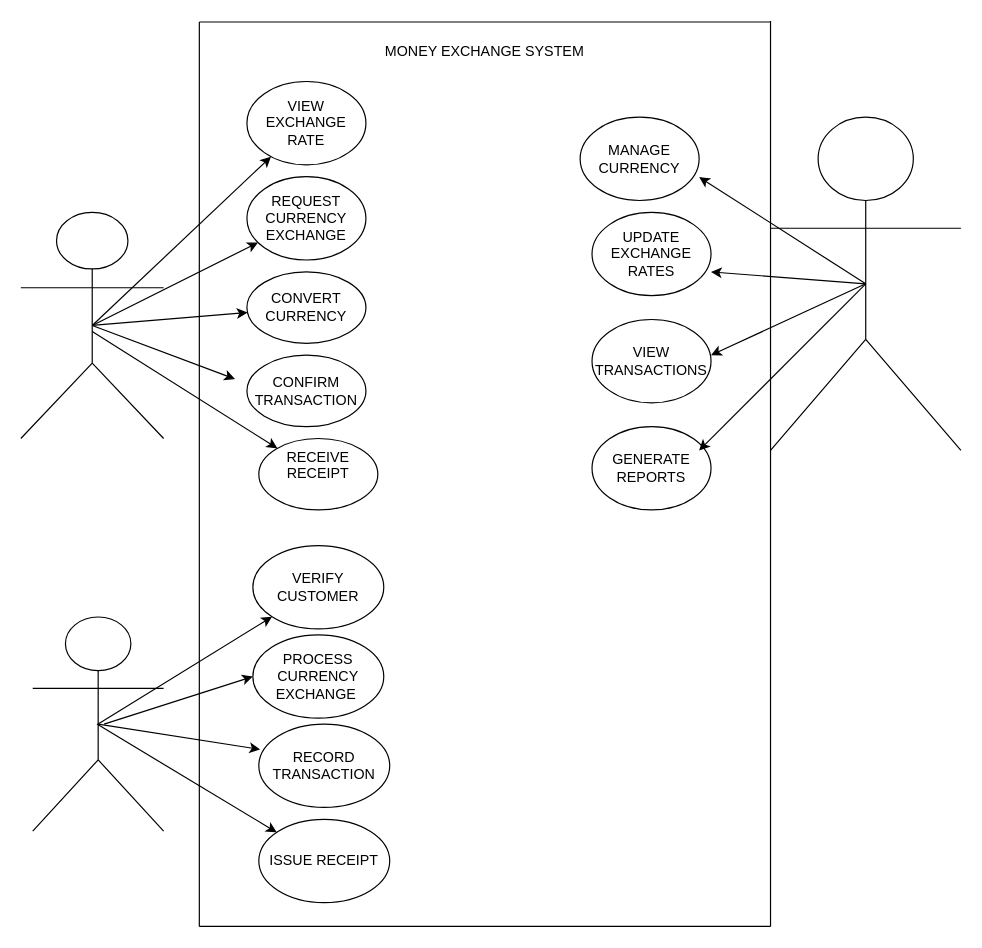
This 982x948 diagram has some shape labels left out. Here are the shapes that lost their labels. From the top down, the box of each, then its label:
(769, 116, 961, 450): ADMINISTRATOR
(20, 211, 164, 439): CUSTOMER
(32, 616, 164, 831): EXCHANGE STAFF
